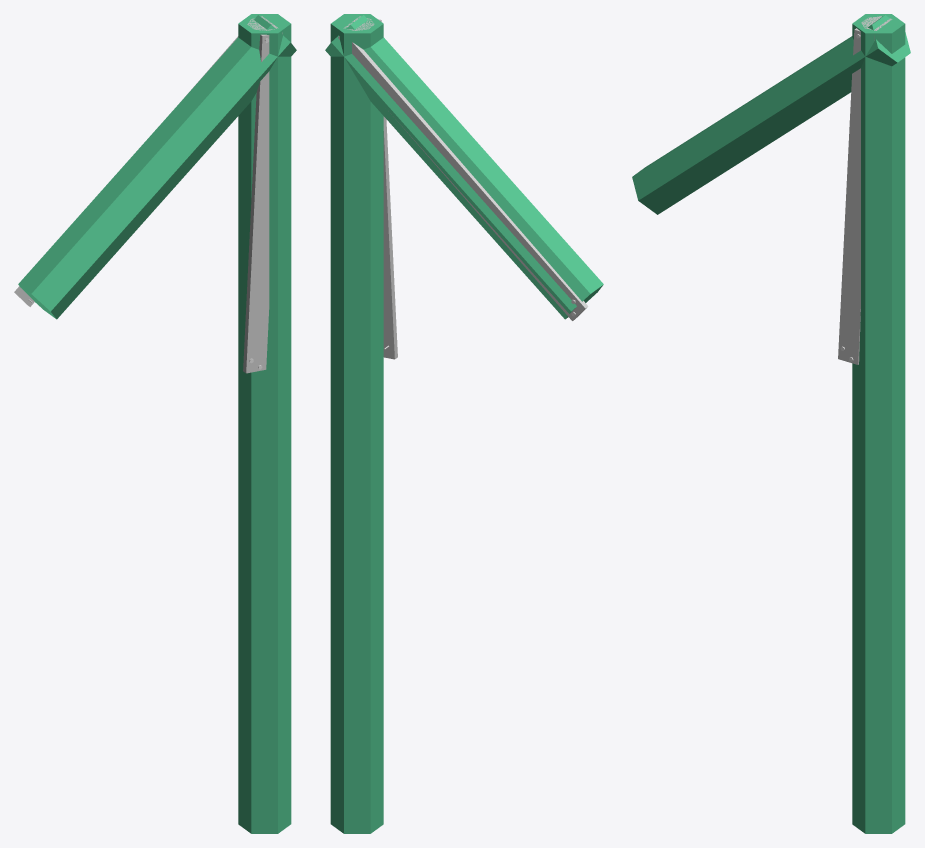
The model's file is ruinedpier_01_f.dae.
The picture shows the model from 3 angles, left to right: view 1: azimuth 30°, elevation 25°; view 2: azimuth 150°, elevation 25°; view 3: azimuth 330°, elevation 25°; orthographic projection.
Visible parts, largest first — view 1: Colmesh-1, ind_bld_a500; view 2: Colmesh-1, ind_bld_a500; view 3: Colmesh-1, ind_bld_a500.
Part boxes in pixels (x1,y1,x2,y2): Colmesh-1: (18,14,296,833); ind_bld_a500: (14,16,282,373); Colmesh-1: (325,14,603,833); ind_bld_a500: (338,16,588,359); Colmesh-1: (632,14,910,833); ind_bld_a500: (838,16,892,364).
Size of the model in its own units: 3.47 by 0.6 by 10.05.
